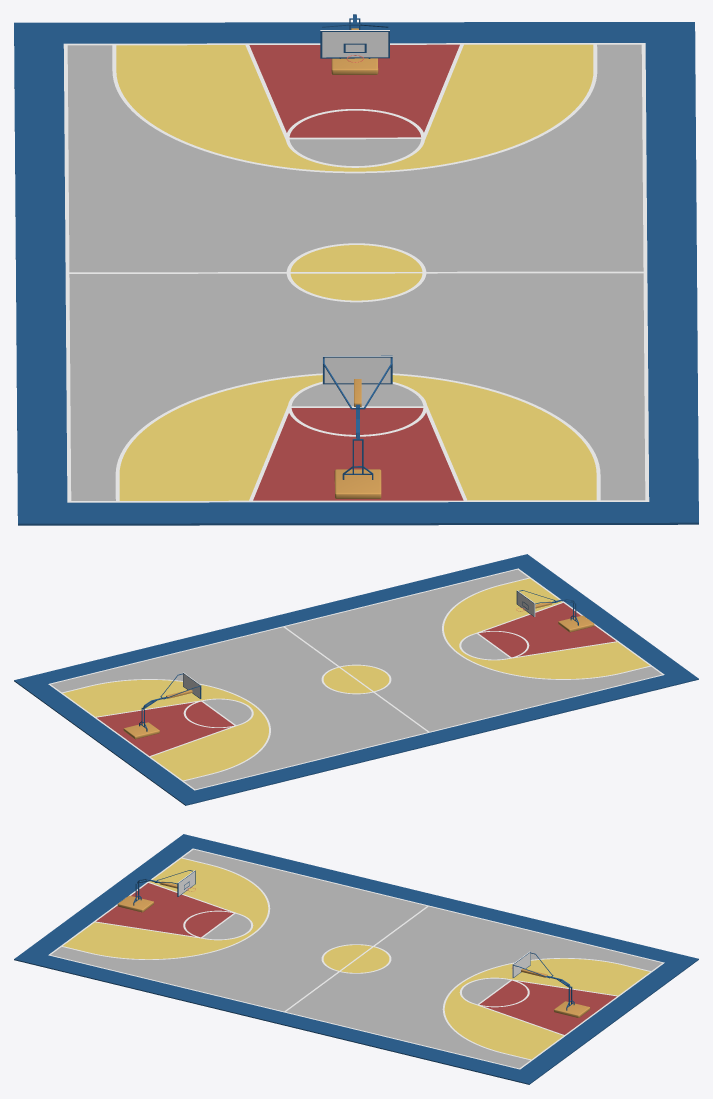
File: lanqiuchang3.gltf
3 views of the same model, one above another, from view 1: azimuth 30°, elevation 25°; view 2: azimuth 150°, elevation 25°; view 3: azimuth 270°, elevation 25° (orthographic). The views are drawn at different scales.
Parts seen in each view (by area): view 1: dx164; view 2: dx164; view 3: dx164.
Boxes of the visible parts, bbox=[...] form: dx164: bbox=[14, 14, 698, 525]; dx164: bbox=[14, 554, 698, 805]; dx164: bbox=[14, 834, 698, 1084].
Size of the model in its own units: 319 by 25.02 by 370.
